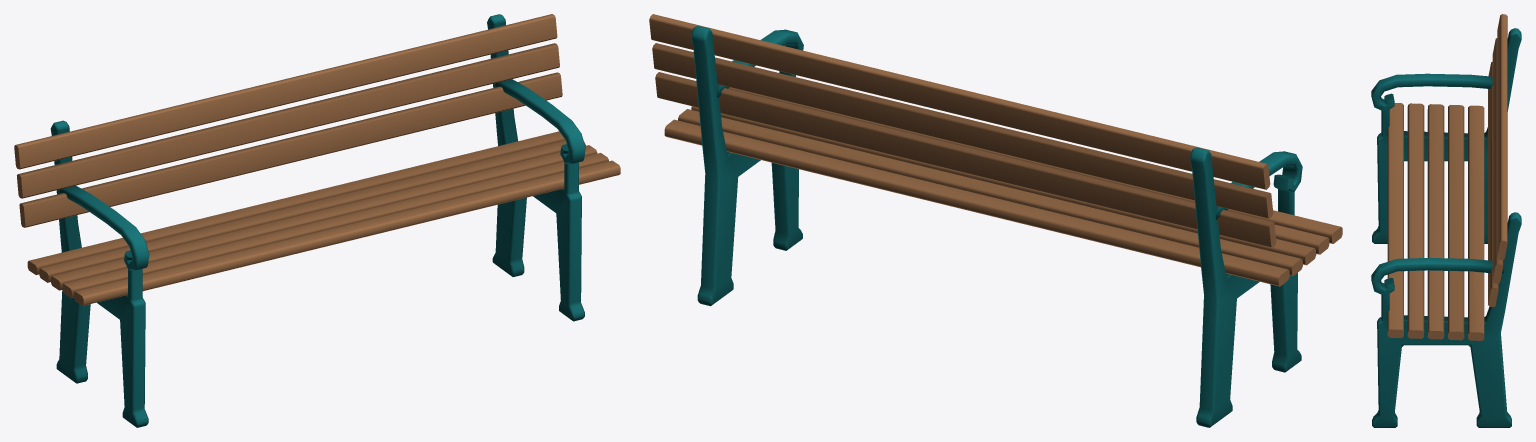
Rendered from bench.fbx.
3 views of the same model, side by side, from view 1: azimuth 30°, elevation 25°; view 2: azimuth 150°, elevation 25°; view 3: azimuth 270°, elevation 25° (orthographic). The views are drawn at different scales.
Visible parts, largest first — view 1: bench; view 2: bench; view 3: bench.
Part boxes in pixels (x1,y1,x2,y2): bench: (14,14,620,427); bench: (649,14,1342,427); bench: (1371,14,1521,427).
Bounding box in the file's own units: 1.97 × 0.8588 × 0.5533.
